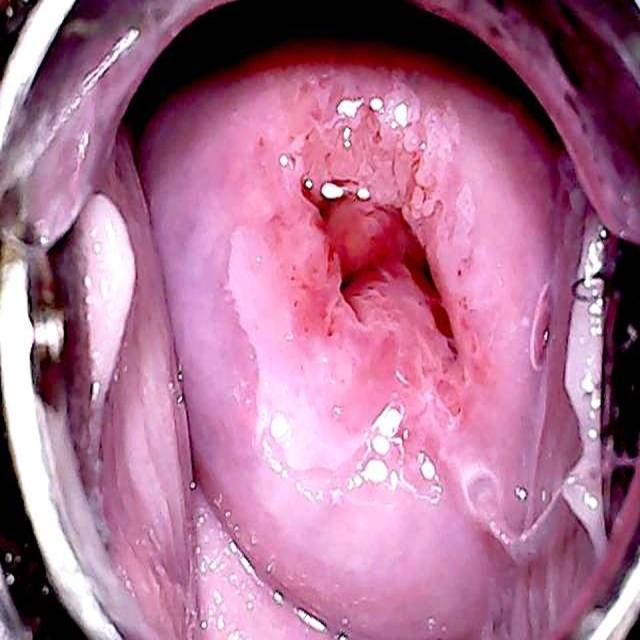cervical_lesion: (236, 68, 497, 524)
